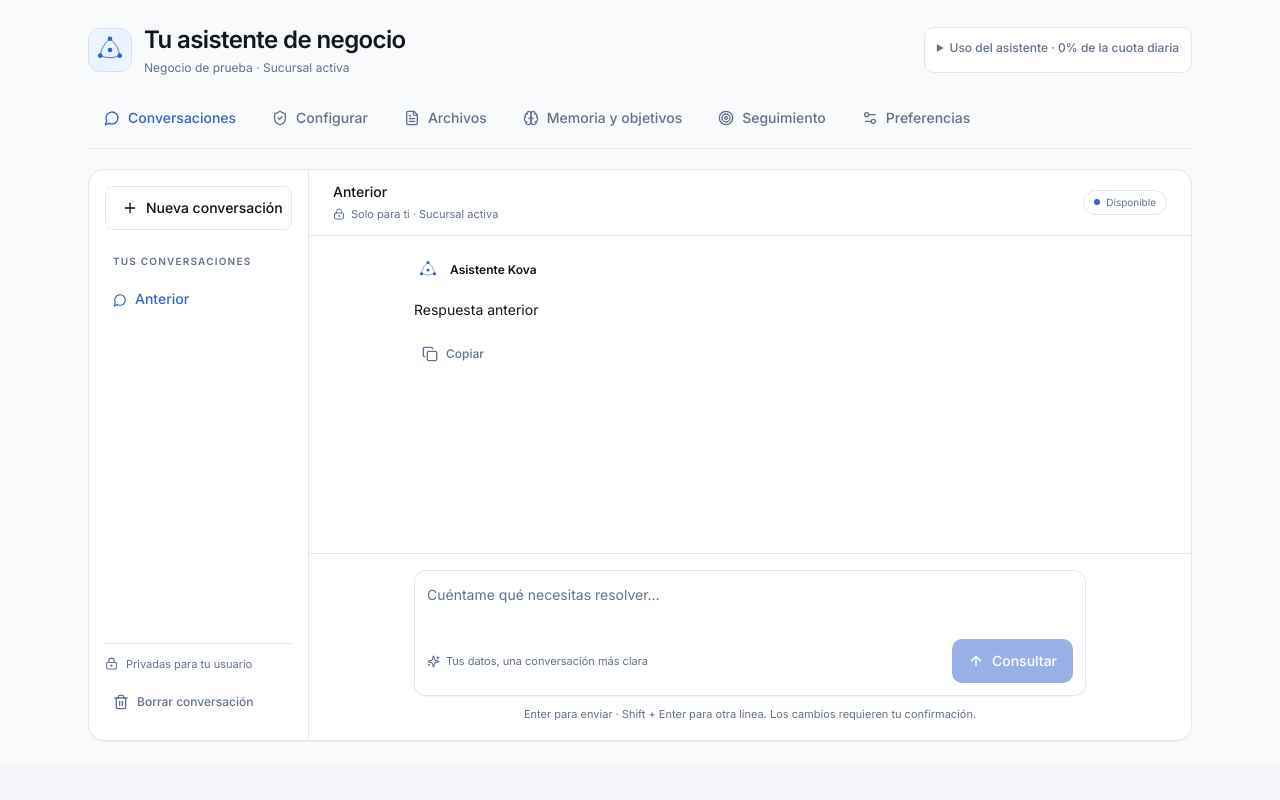
Test case: tenant assistant review and privacy › keeps the completed explanation and evidence (quota refresh failure: false)
The width and height of the screenshot is (1280, 800).
Expected: the text "Respuesta anterior" is shown, 414,300 -> 538,318
Click the button "Nueva conversación".
click(198, 208)  # box 105,186 -> 292,230
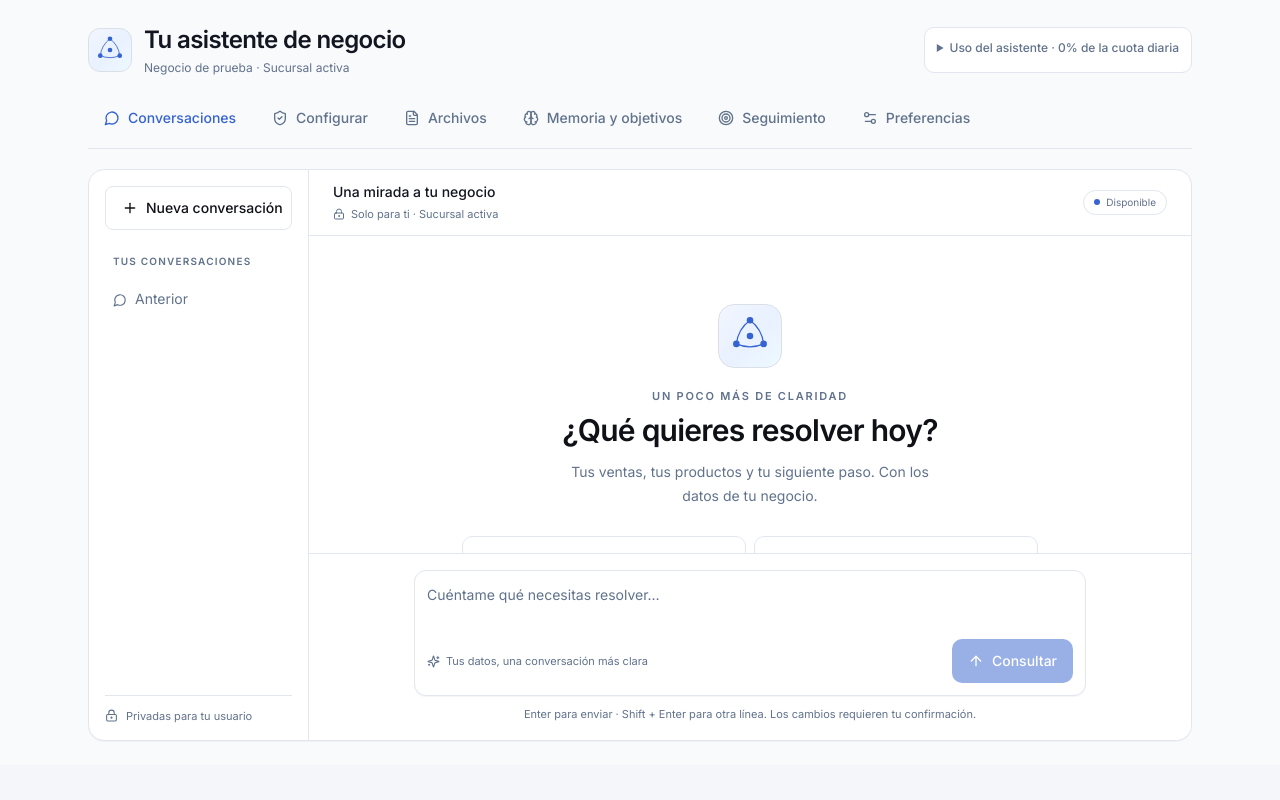
Result: the heading "¿Qué quieres resolver hoy?" is shown at 562,412 -> 938,448
Type "Revisa mis ventas" into the text box named "Tu pregunta".
click(750, 607); type("Revisa mis ventas")  # box 427,583 -> 1073,631
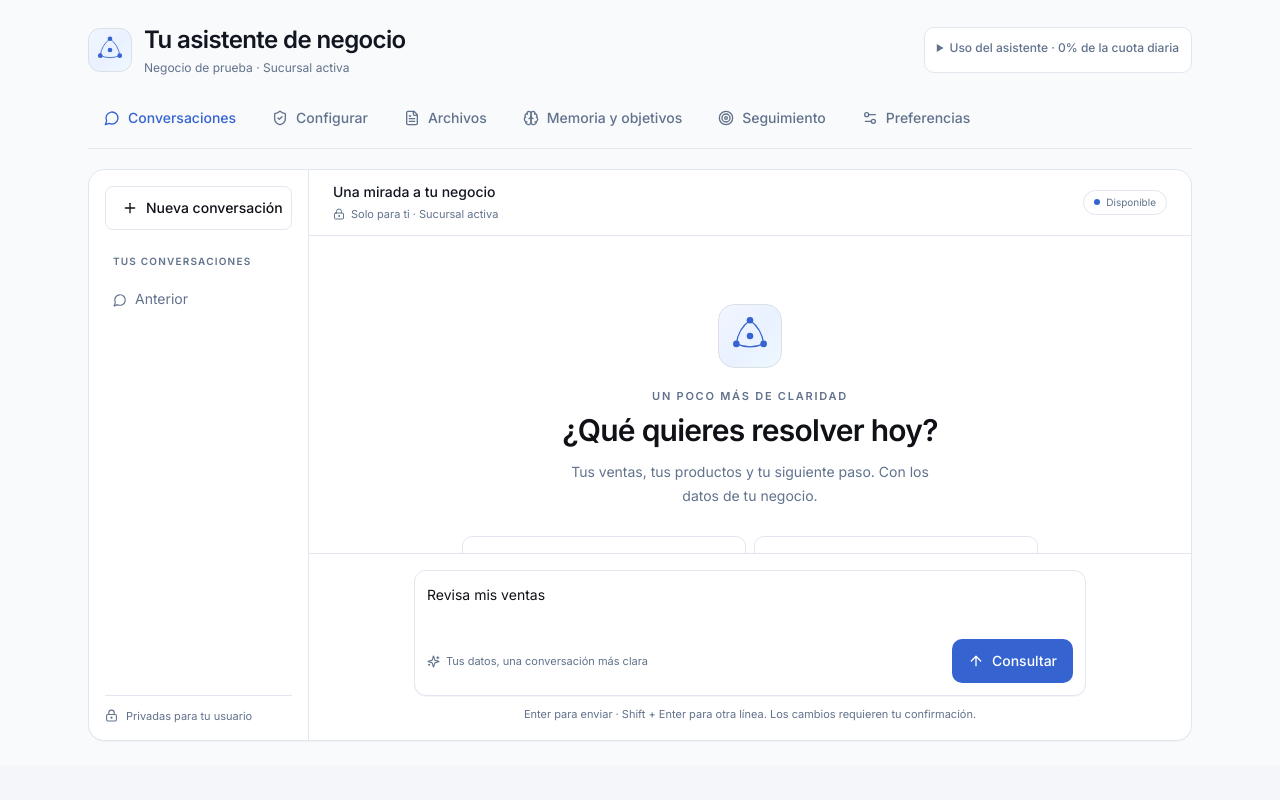
Click the button "Consultar".
click(1012, 661)  # box 952,639 -> 1073,683
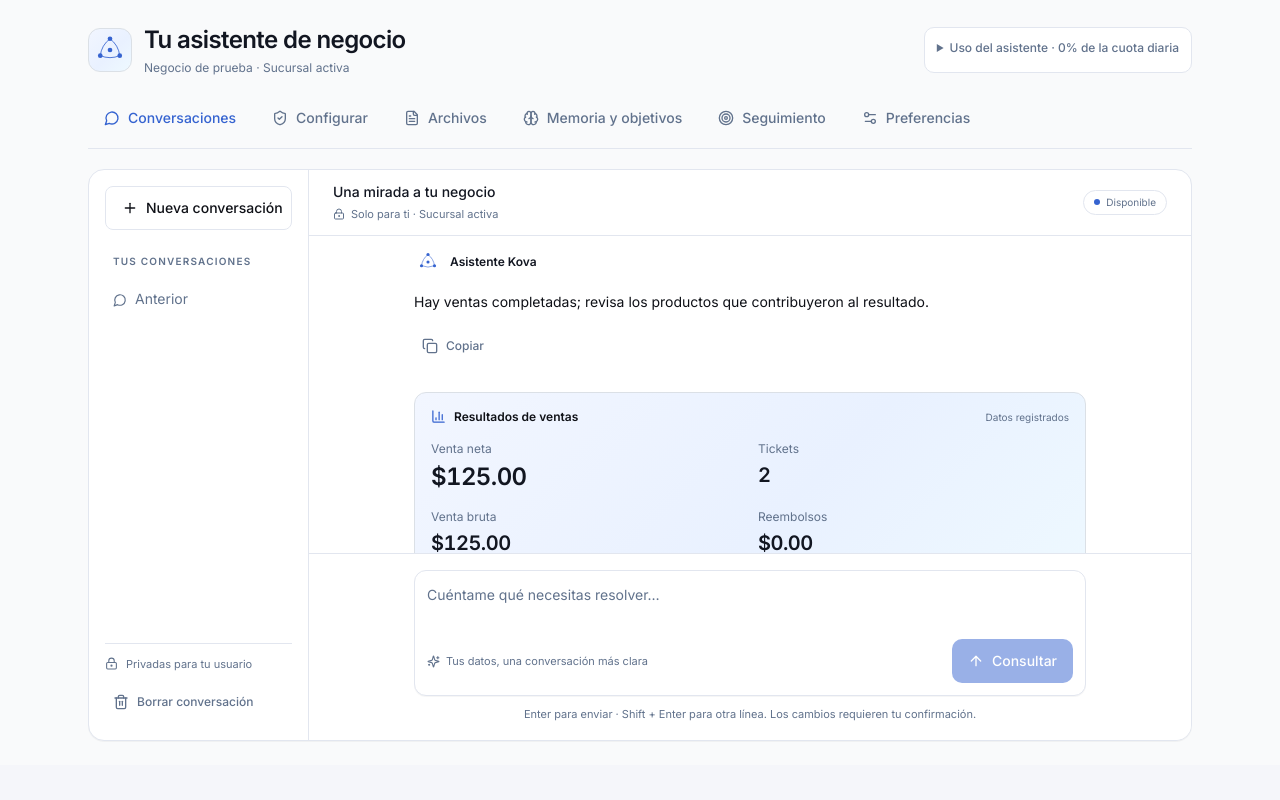
Expected: the text "Respuesta anterior" is not shown
Result: the text "Venta neta" is shown at 431,440 -> 492,456
Result: the text "Hay ventas completadas; revisa los productos que contribuyeron al resultado." is shown at 414,292 -> 929,310
